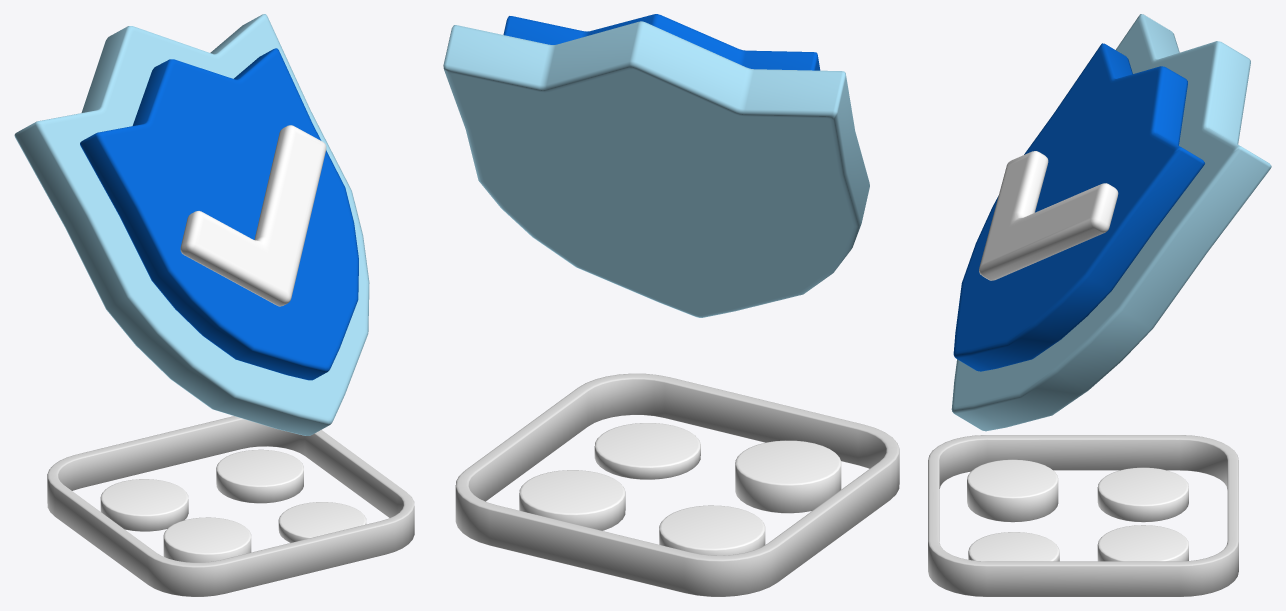
3 renders of one model, left to right at view 1: azimuth 30°, elevation 25°; view 2: azimuth 150°, elevation 25°; view 3: azimuth 270°, elevation 25°, orthographic. The views are drawn at different scales.
Visible parts, largest first — view 1: safe_00; view 2: safe_00; view 3: safe_00.
Boxes of the visible parts, left/top/right/bottom form: safe_00: left=14, top=14, right=414, bottom=596; safe_00: left=443, top=14, right=899, bottom=596; safe_00: left=928, top=14, right=1271, bottom=596.
Size of the model in its own units: 4.96 by 6.9 by 4.54.
